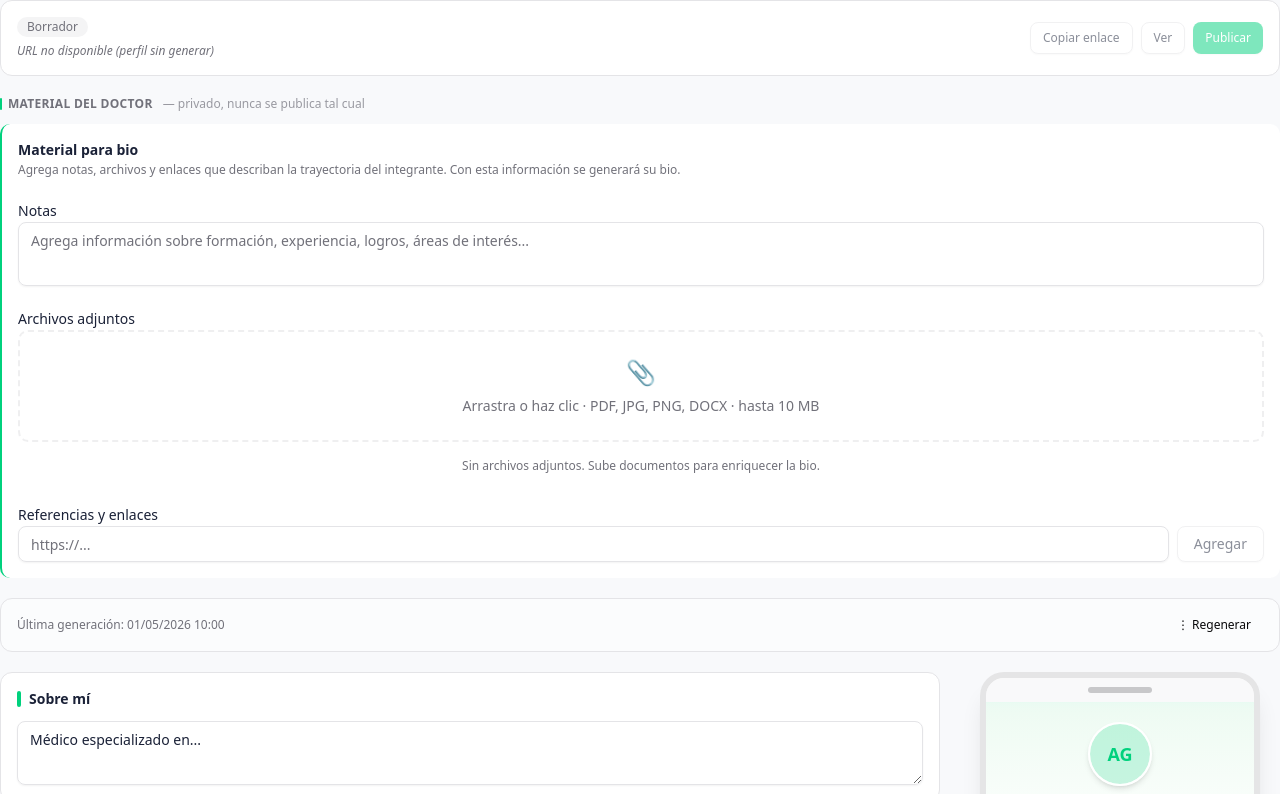
Test: DoctorPaginaView › SC-D3D-6: quiet state — clicking Regenerar with profile shows confirm modal
The image size is (1280, 794).
Click the button "⋮ Regenerar": {"x": 1214, "y": 625} left=1165, top=611, right=1263, bottom=639
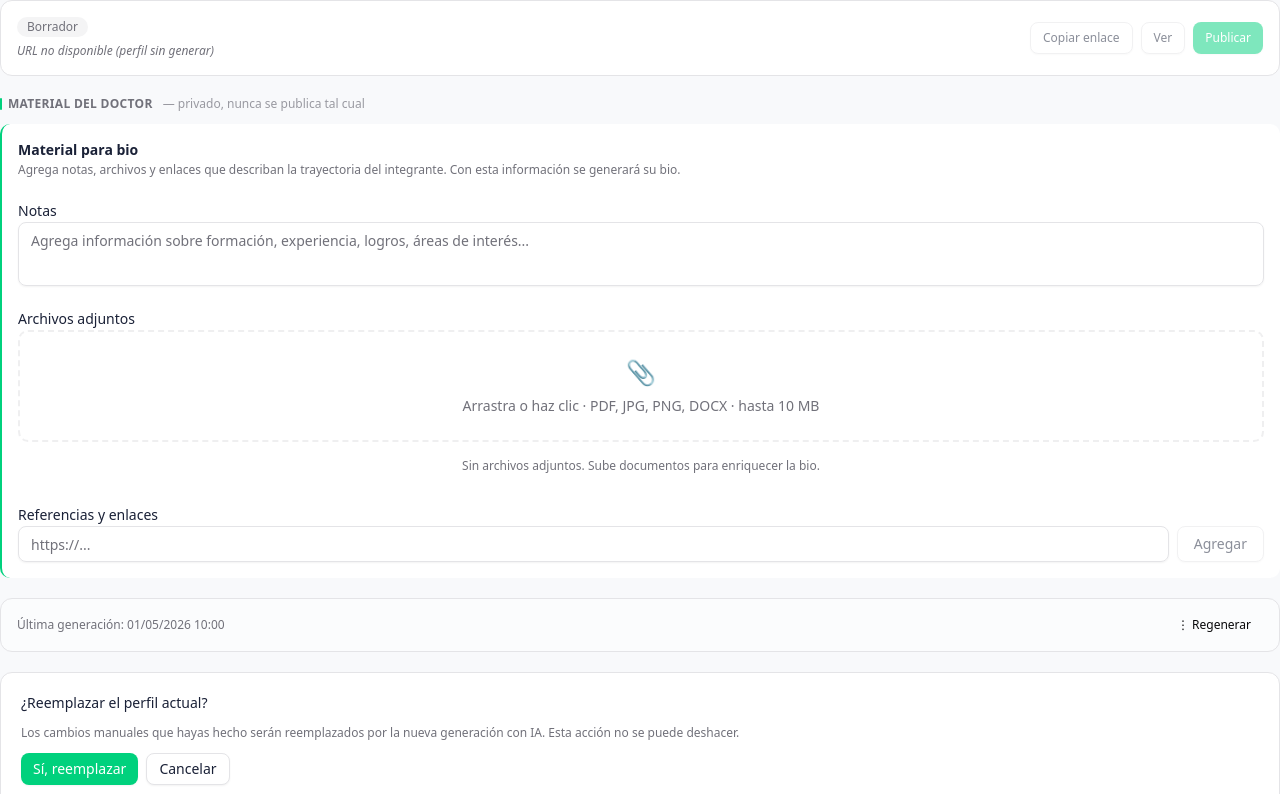
Expected: the text "¿Reemplazar el perfil actual?" is shown, left=21, top=693, right=208, bottom=712
